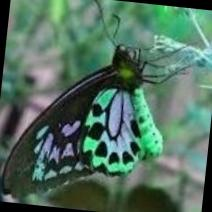butterfly: (3, 47, 162, 195)
